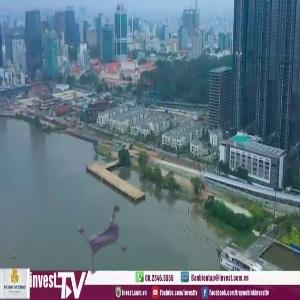drone: (64, 188, 146, 270)
